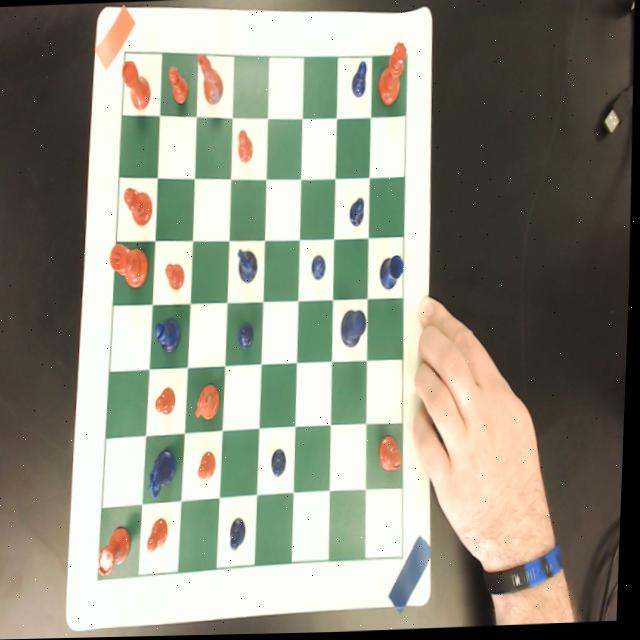B: (154, 317, 184, 355)
K: (342, 308, 368, 349)
N: (148, 447, 179, 500), (236, 247, 259, 284)
P: (350, 58, 369, 99), (231, 516, 250, 551), (272, 447, 290, 478), (348, 197, 366, 227), (311, 255, 327, 282), (239, 322, 255, 348)
R: (378, 254, 406, 290)
b: (122, 186, 155, 230), (380, 436, 406, 474)
k: (109, 242, 150, 290)
n: (195, 53, 225, 109), (195, 381, 223, 425)
p: (167, 65, 189, 107), (148, 516, 173, 552), (199, 449, 219, 482), (156, 386, 178, 415), (236, 128, 254, 163), (165, 262, 186, 290)
q: (376, 42, 408, 106)
r: (100, 523, 136, 579), (118, 58, 153, 111)
